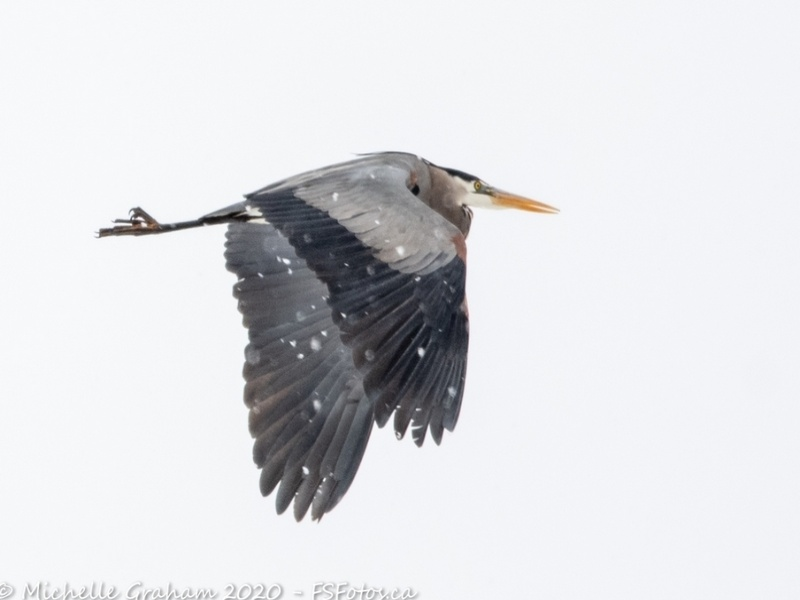heron: (91, 152, 560, 525)
